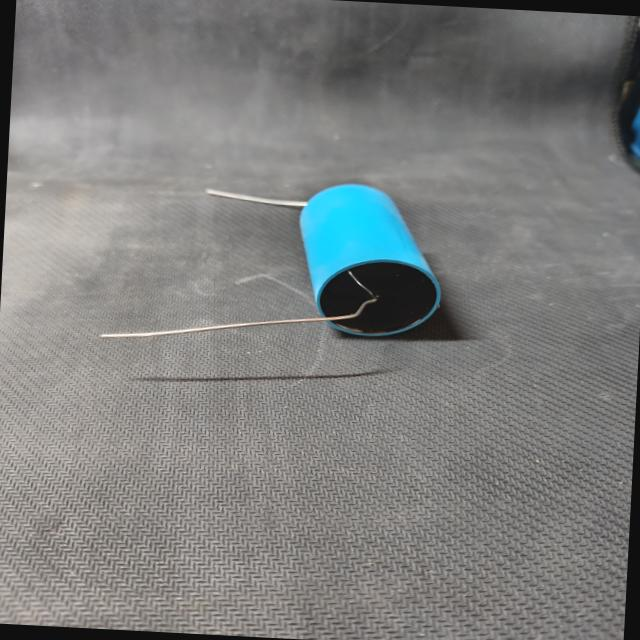capacitor: (88, 162, 460, 372)
